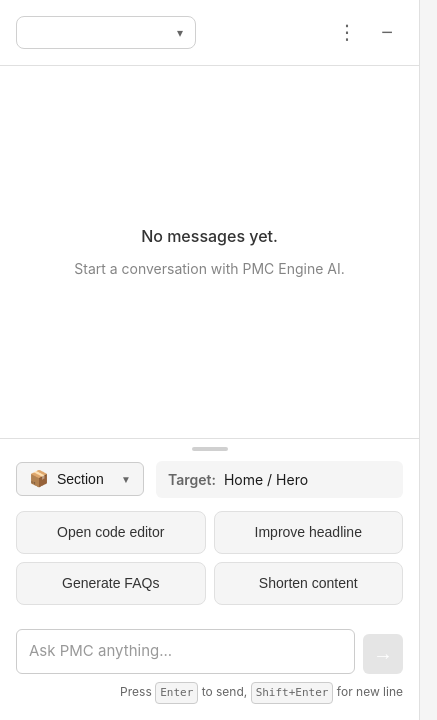
Test: Keyboard Navigation - T069 › Screen Reader Support › uses proper ARIA roles for menu
The width and height of the screenshot is (437, 720).
Step 1. Click the button named "Chat options menu" → (347, 32), box [331,16,363,48]
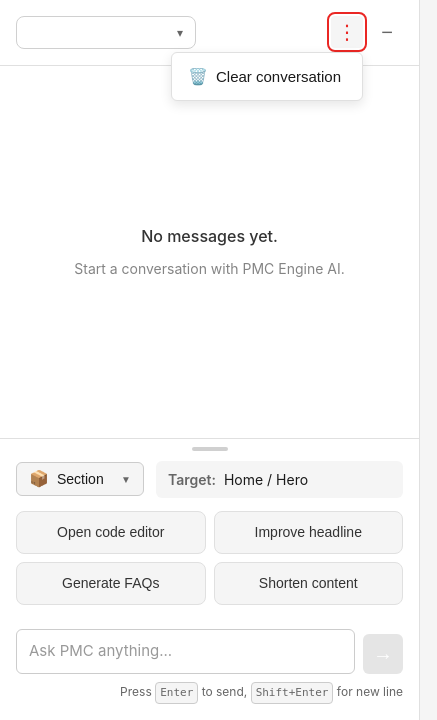
Now the menu is shown, box [171,52,363,101]
